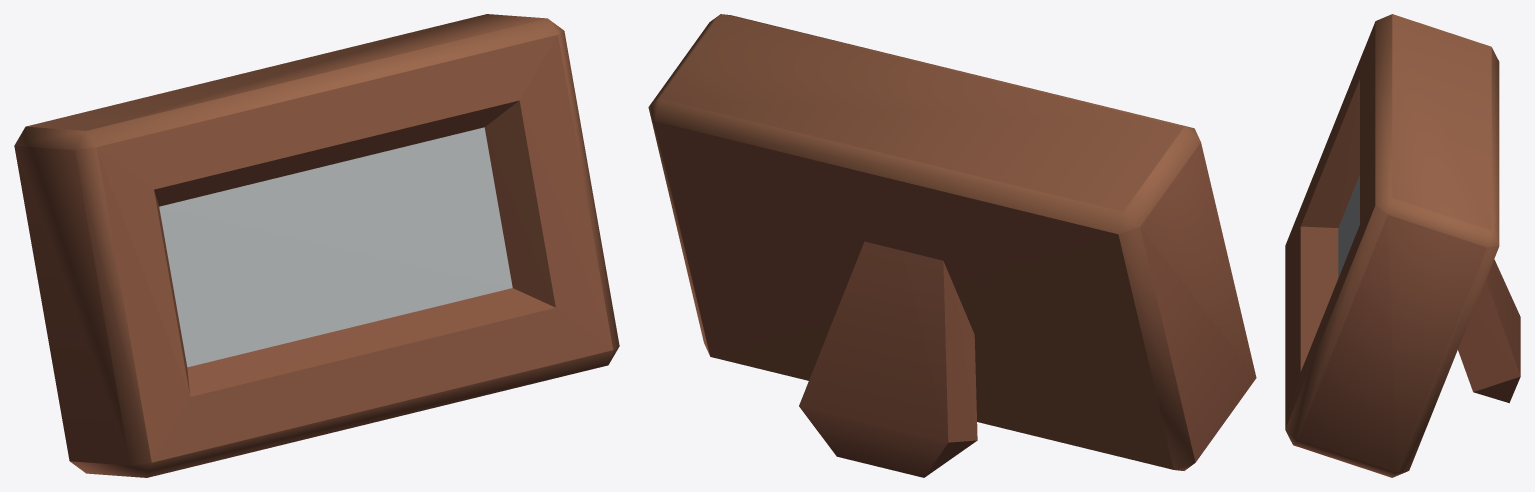
Rendered from kk_furniture_pictureframe_standing_B.glb.
3 views of the same model, side by side, from view 1: azimuth 30°, elevation 25°; view 2: azimuth 150°, elevation 25°; view 3: azimuth 270°, elevation 25° (orthographic). The views are drawn at different scales.
Visible parts, largest first — view 1: kk_furniture_pictureframe_standing_B; view 2: kk_furniture_pictureframe_standing_B; view 3: kk_furniture_pictureframe_standing_B.
Boxes of the visible parts, x1,y1,x2,y2 form: kk_furniture_pictureframe_standing_B: (14,14,619,477); kk_furniture_pictureframe_standing_B: (648,14,1256,477); kk_furniture_pictureframe_standing_B: (1285,14,1520,477).
Size of the model in its own units: 0.7 by 0.4682 by 0.357.
